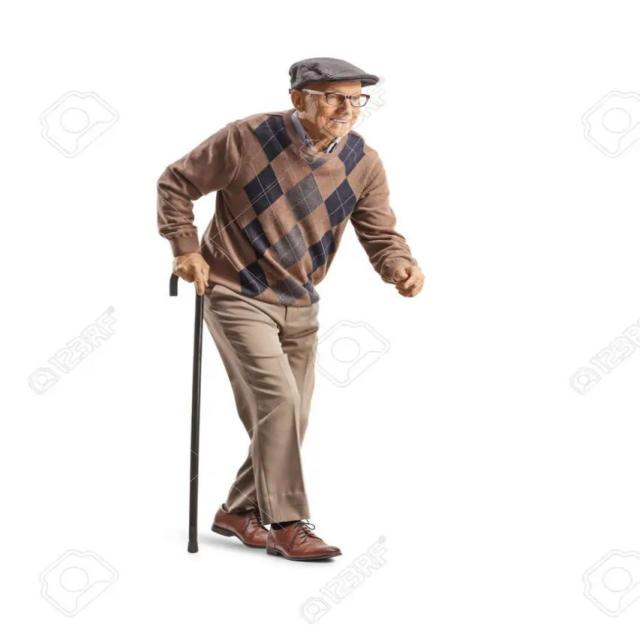idoso em pe: (154, 55, 396, 567)
